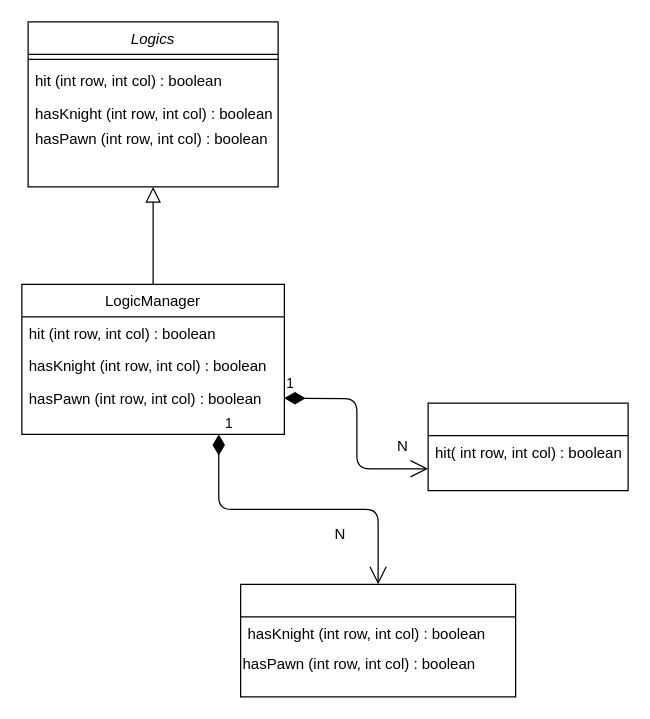
This 650x719 diagram has some shape labels left out. Here are the shapes that lost their labels. From the top down, the box of each, then its label:
(427, 402, 628, 491): WinLogic
(239, 583, 516, 697): CheckPositionLogic
